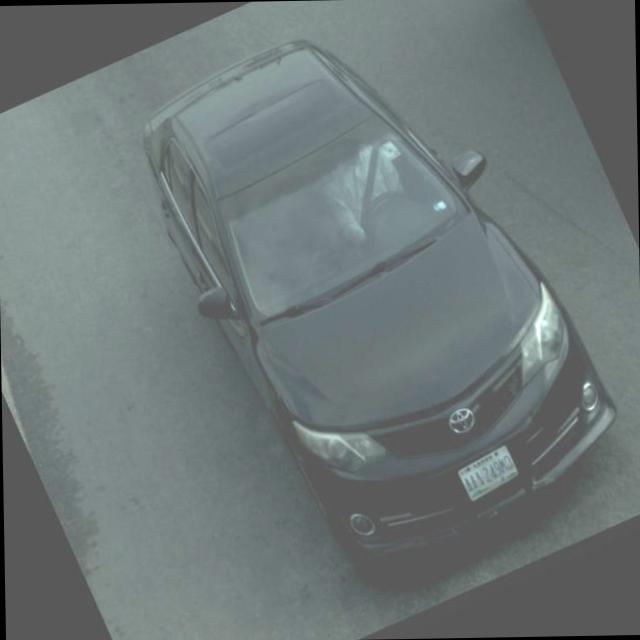person_with_seatbelt: (321, 132, 438, 247)
